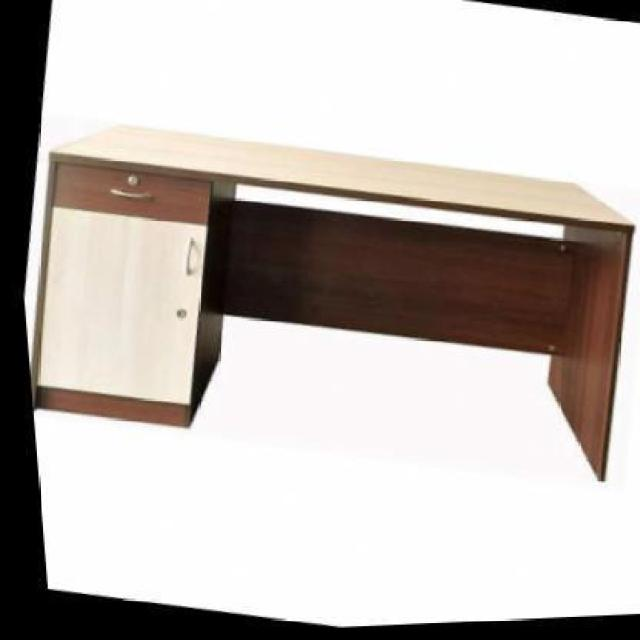tables: (28, 121, 637, 482)
